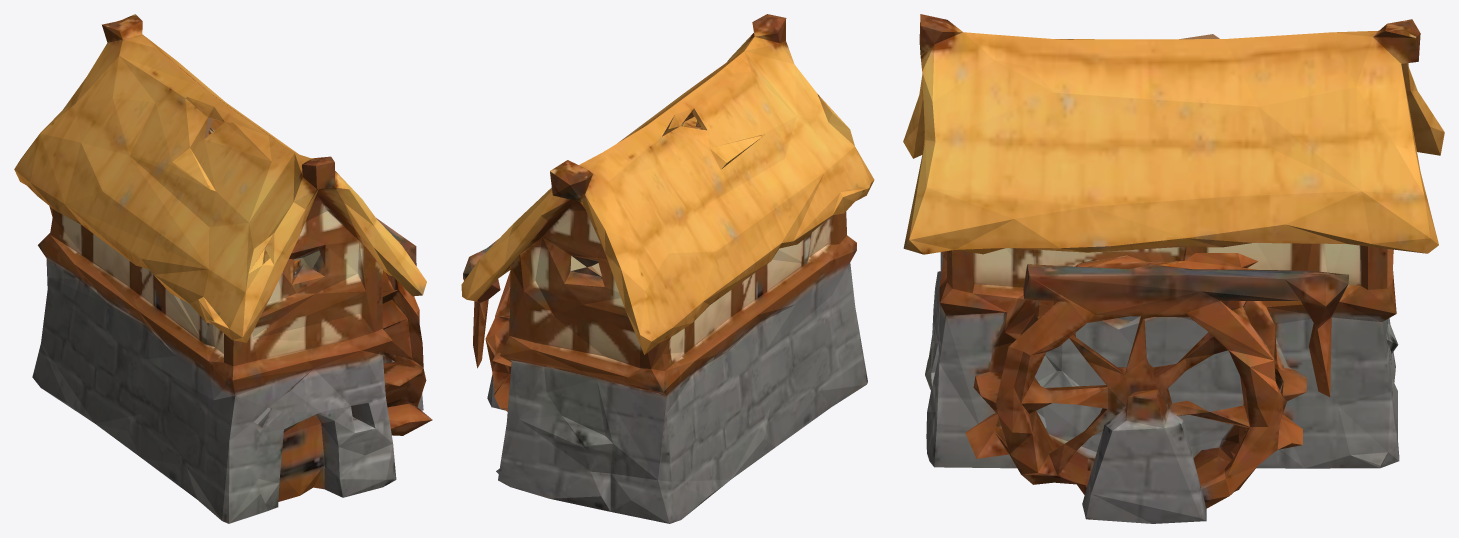
Rendered from watermill.glb.
3 renders of one model, left to right at view 1: azimuth 30°, elevation 25°; view 2: azimuth 150°, elevation 25°; view 3: azimuth 270°, elevation 25°, orthographic. The views are drawn at different scales.
Parts seen in each view (by area): view 1: watermill; view 2: watermill; view 3: watermill.
Boxes of the visible parts, x1=… form: watermill: x1=14, y1=14, x2=432, y2=523; watermill: x1=461, y1=14, x2=874, y2=523; watermill: x1=903, y1=14, x2=1444, y2=523.
Bounding box in the file's own units: 5.89 × 7.47 × 8.55.
Materials: 1 (1 with a texture image).
